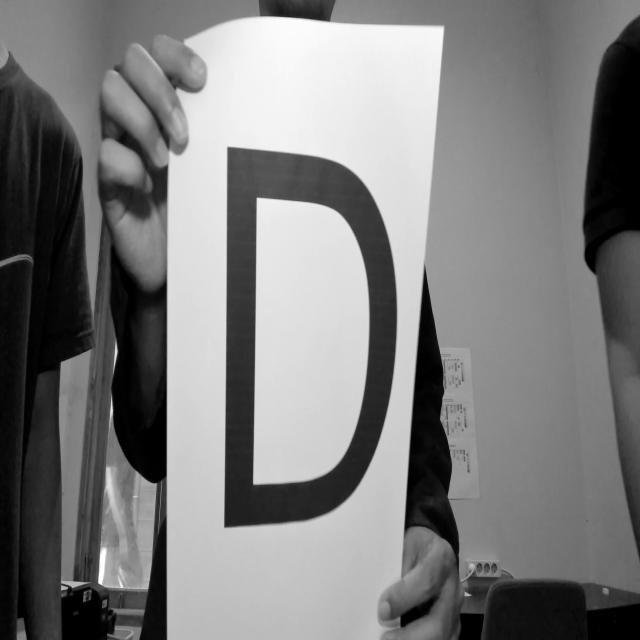d: (213, 127, 410, 556)
